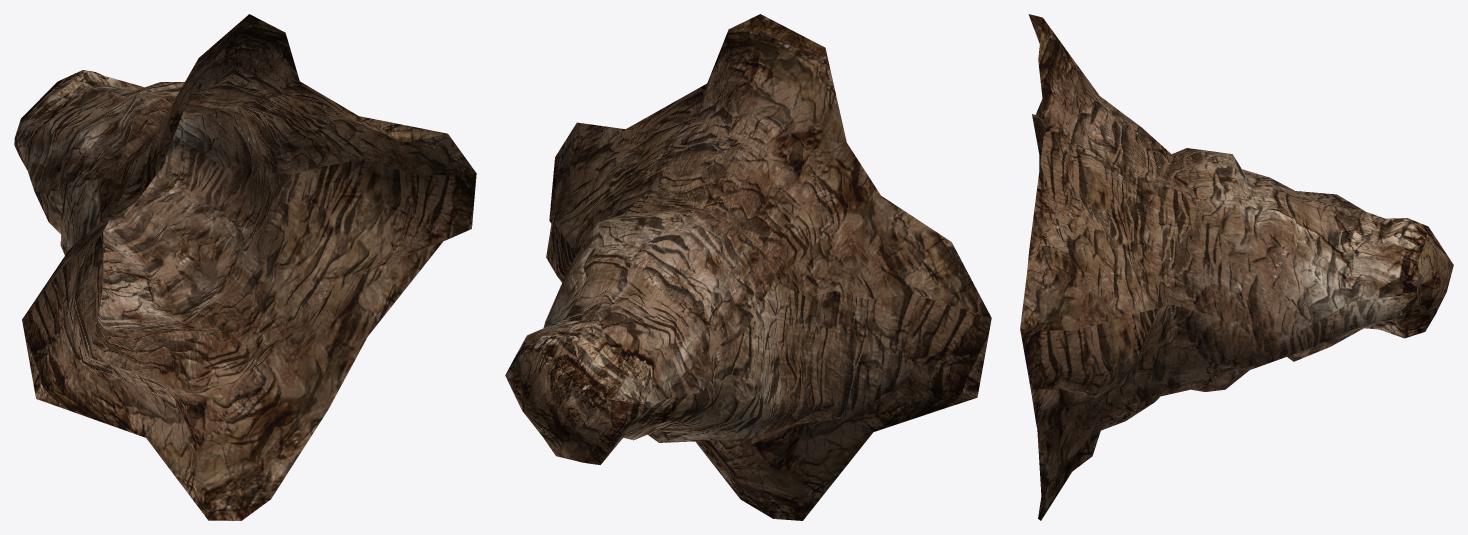
File: MEP_DesertCliff_05.fbx
3 renders of one model, left to right at view 1: azimuth 30°, elevation 25°; view 2: azimuth 150°, elevation 25°; view 3: azimuth 270°, elevation 25°, orthographic.
Visible parts, largest first — view 1: MEP_Desert_Cliff_05; view 2: MEP_Desert_Cliff_05; view 3: MEP_Desert_Cliff_05.
Part boxes in pixels (x1,y1,x2,y2): MEP_Desert_Cliff_05: (14, 14, 476, 520); MEP_Desert_Cliff_05: (505, 14, 991, 520); MEP_Desert_Cliff_05: (1020, 14, 1453, 520).
Size of the model in its own units: 21.7 by 23.39 by 18.16.
